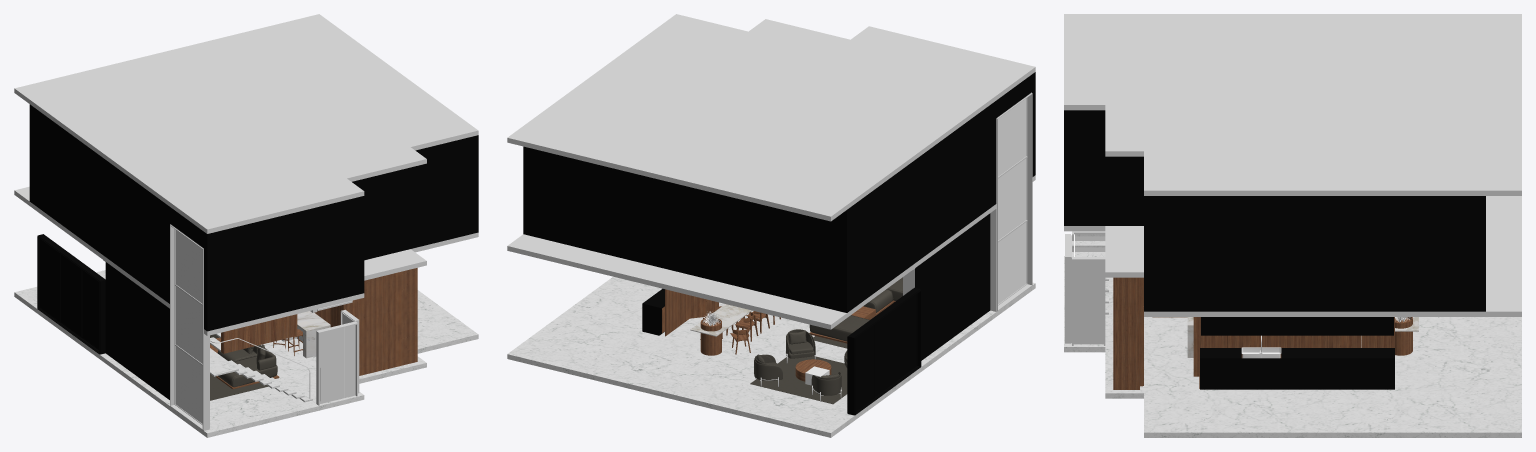
File: Big Apartment.glb
3 renders of one model, left to right at view 1: azimuth 30°, elevation 25°; view 2: azimuth 150°, elevation 25°; view 3: azimuth 270°, elevation 25°, orthographic. The views are drawn at different scales.
Visible parts, largest first — view 1: Cube.003, Cube.002, Cube.004, Cube.055, Cube.068, Cube.016, Cube.054, Cube.001, Cube.071, Cube.039, Cube.049, Cube.007 (+2 smaller); view 2: Cube.003, Cube.002, Cube.004, Cube.055, Cube.001, Cube.068, Cube.054, Cube.017, Cube.062, Cube.006, Cube.007, Cube.030 (+6 smaller); view 3: Cube.003, Cube.002, Cube.004, Cube.006, Cube.001, Cube.016, Cube.056, Cube.062, Cube.071, Cube.049, Cylinder, Cube.059 (+1 smaller).
Boxes of the visible parts, bbox=[...] form: Cube.003: bbox=[14, 14, 478, 233]; Cube.002: bbox=[29, 104, 478, 331]; Cube.004: bbox=[14, 270, 478, 437]; Cube.055: bbox=[170, 224, 209, 430]; Cube.068: bbox=[105, 262, 169, 399]; Cube.016: bbox=[330, 268, 417, 375]; Cube.054: bbox=[37, 234, 105, 354]; Cube.001: bbox=[14, 186, 478, 335]; Cube.071: bbox=[316, 321, 357, 405]; Cube.039: bbox=[221, 314, 297, 353]; Cube.049: bbox=[210, 332, 312, 402]; Cube.007: bbox=[281, 311, 330, 358]; Cube.003: bbox=[507, 14, 1035, 221]; Cube.002: bbox=[523, 72, 1035, 312]; Cube.004: bbox=[507, 276, 1035, 437]; Cube.055: bbox=[990, 92, 1032, 311]; Cube.001: bbox=[507, 175, 1035, 329]; Cube.068: bbox=[915, 213, 990, 360]; Cube.054: bbox=[847, 287, 921, 415]; Cube.017: bbox=[750, 317, 873, 404]; Cube.062: bbox=[665, 289, 689, 336]; Cube.006: bbox=[642, 288, 664, 335]; Cube.007: bbox=[690, 304, 751, 336]; Cube.030: bbox=[809, 315, 869, 341]; Cube.003: bbox=[1064, 14, 1521, 195]; Cube.002: bbox=[1064, 110, 1485, 311]; Cube.004: bbox=[1064, 256, 1521, 437]; Cube.006: bbox=[1200, 317, 1394, 389]; Cube.001: bbox=[1064, 196, 1521, 316]; Cube.016: bbox=[1113, 277, 1143, 389]; Cube.056: bbox=[1072, 257, 1105, 345]; Cube.062: bbox=[1193, 317, 1394, 376]; Cube.071: bbox=[1065, 234, 1071, 343]; Cube.049: bbox=[1072, 231, 1108, 314]; Cylinder: bbox=[1395, 317, 1412, 355]; Cube.059: bbox=[1241, 347, 1281, 358].
Bounding box in the file's own units: 10.51 × 6.85 × 11.49.
Materials: 18 (8 with a texture image).
